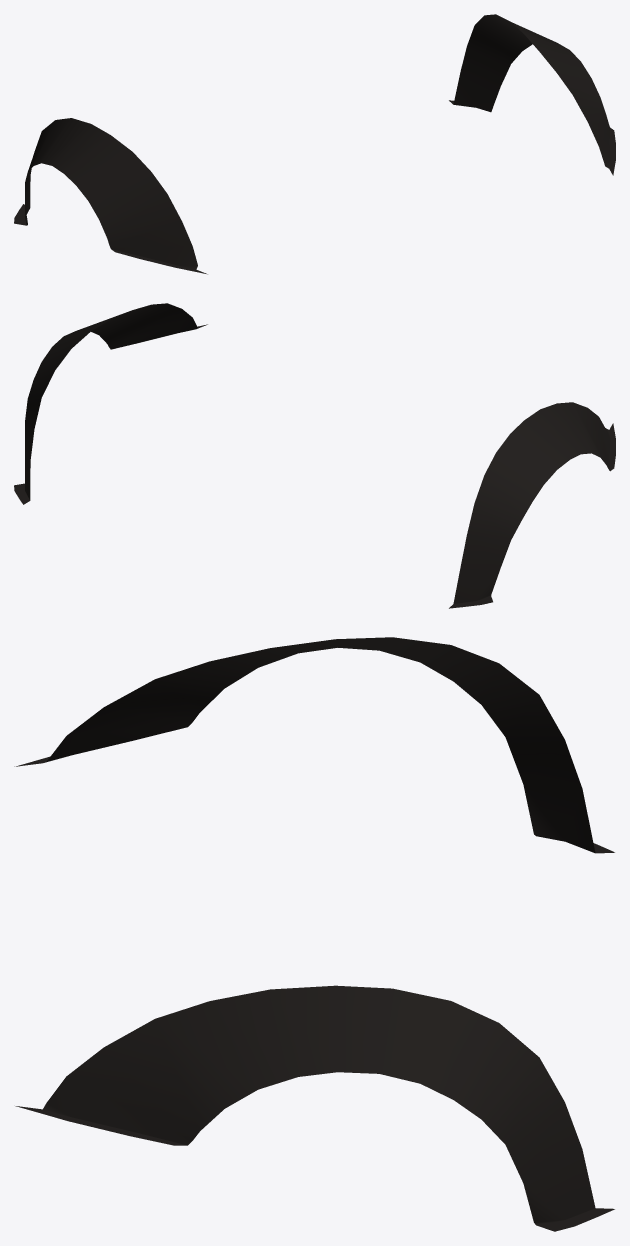
The model's file is RWB_993_FF_01_Trim.fbx.
3 views of the same model, one above another, from view 1: azimuth 30°, elevation 25°; view 2: azimuth 150°, elevation 25°; view 3: azimuth 270°, elevation 25° (orthographic). The views are drawn at different scales.
Parts seen in each view (by area): view 1: RWB_993_FF_01_Trim; view 2: RWB_993_FF_01_Trim; view 3: RWB_993_FF_01_Trim.
Boxes of the visible parts, <box> form: RWB_993_FF_01_Trim: <box>14,14,615,274</box>; RWB_993_FF_01_Trim: <box>14,303,615,608</box>; RWB_993_FF_01_Trim: <box>14,637,614,1231</box>.
Size of the model in its own units: 183 by 43.98 by 110.
